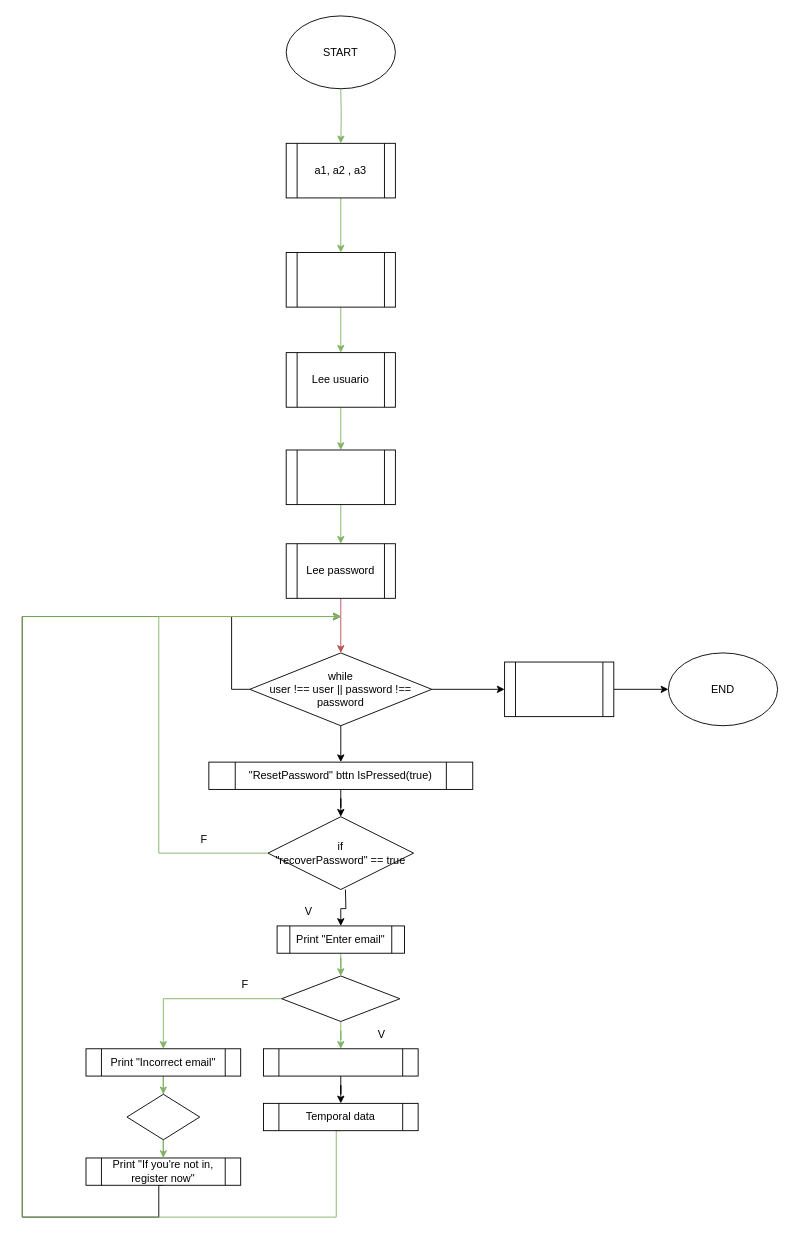
Image size: 794x1240. Some labels were removed from this diagram. Here are the shapes that lost their labels. From the top down, the centre of each, then its label:
the point at 340,279: Ingresa usuario
the point at 340,477: Ingresa password
the point at 559,689: Enter to app
the point at 340,998: if email == user.email
the point at 340,1062: Send at "user.email"
the point at 163,1116: if attemps >= 3
